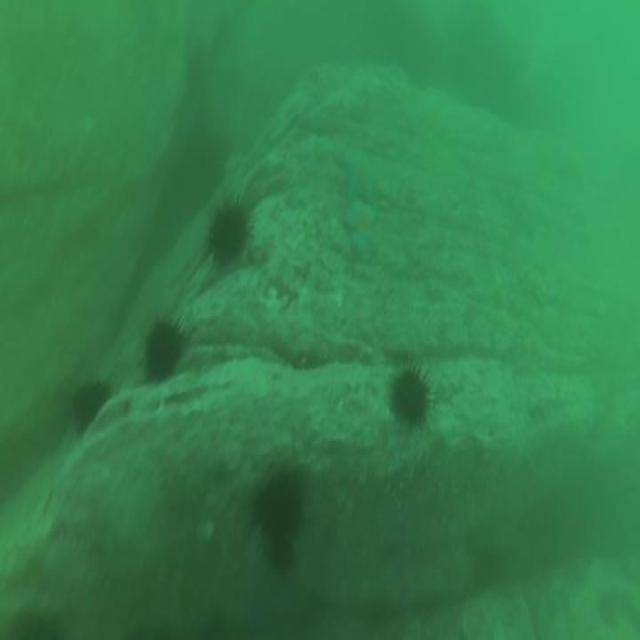echinus: (143, 322, 181, 384), (258, 480, 300, 532), (210, 207, 247, 265), (394, 366, 428, 426), (69, 382, 107, 430), (267, 534, 293, 569)
starfish: (344, 152, 378, 200), (344, 195, 372, 228)
